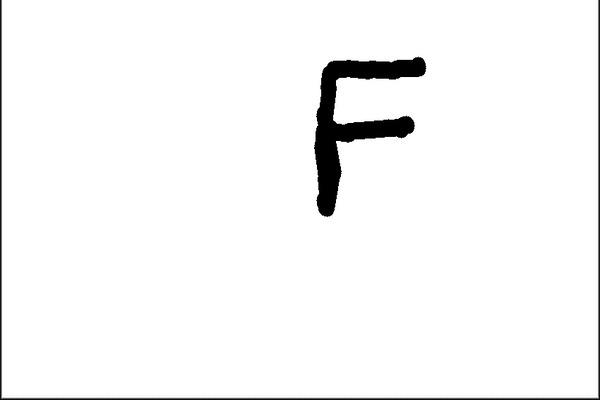F: (308, 52, 431, 221)
